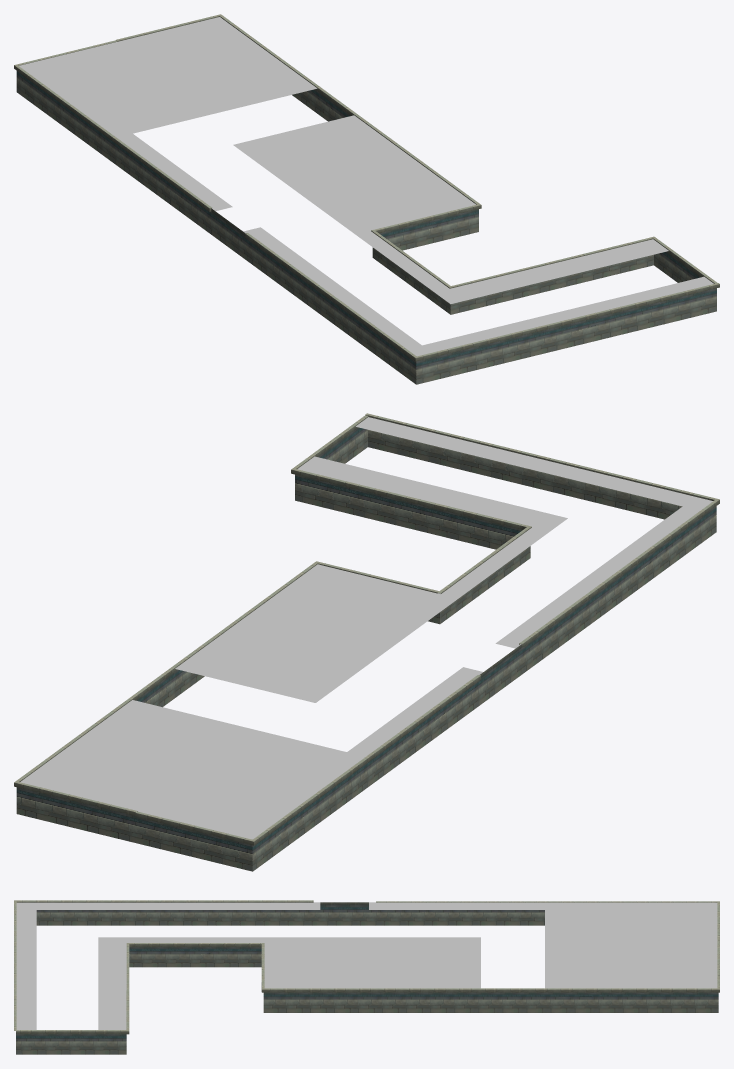
File: szc_building_dimian_quyu02_01.FBX
3 views of the same model, one above another, from view 1: azimuth 30°, elevation 25°; view 2: azimuth 150°, elevation 25°; view 3: azimuth 270°, elevation 25° (orthographic). The views are drawn at different scales.
Visible parts, largest first — view 1: szc_building_dimian_quyu02_01; view 2: szc_building_dimian_quyu02_01; view 3: szc_building_dimian_quyu02_01.
Part boxes in pixels (x1,y1,x2,y2): szc_building_dimian_quyu02_01: (14,14,719,384); szc_building_dimian_quyu02_01: (14,413,719,871); szc_building_dimian_quyu02_01: (14,900,719,1054).
Bounding box in the file's own units: 1748 × 153 × 3997.
